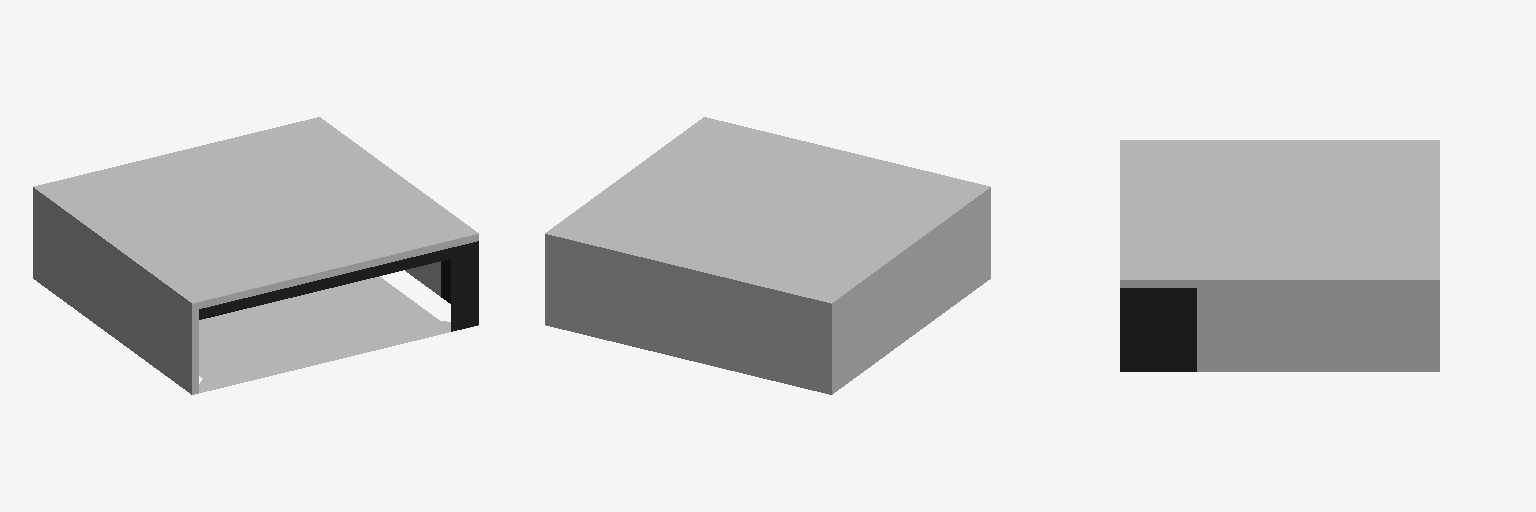
The model's file is tienda.obj.
3 views of the same model, side by side, from view 1: azimuth 30°, elevation 25°; view 2: azimuth 150°, elevation 25°; view 3: azimuth 270°, elevation 25° (orthographic).
Parts seen in each view (by area): view 1: techo_Plano.002, estructura_Plano.003, ladrillo_Plano.018; view 2: techo_Plano.002, estructura_Plano.003; view 3: techo_Plano.002, estructura_Plano.003, ladrillo_Plano.018.
Boxes of the visible parts, x1=… form: techo_Plano.002: x1=34, y1=117, x2=478, y2=303; estructura_Plano.003: x1=33, y1=187, x2=478, y2=394; ladrillo_Plano.018: x1=199, y1=241, x2=478, y2=331; techo_Plano.002: x1=545, y1=117, x2=989, y2=303; estructura_Plano.003: x1=545, y1=187, x2=990, y2=394; techo_Plano.002: x1=1120, y1=140, x2=1439, y2=279; estructura_Plano.003: x1=1120, y1=280, x2=1439, y2=371; ladrillo_Plano.018: x1=1120, y1=288, x2=1196, y2=371.
Bounding box in the file's own units: 8.2 × 2.5 × 7.9.